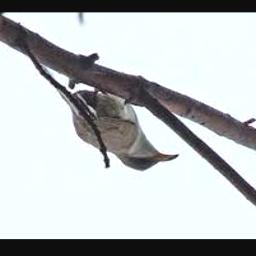Cuckoo: (66, 90, 177, 173)
